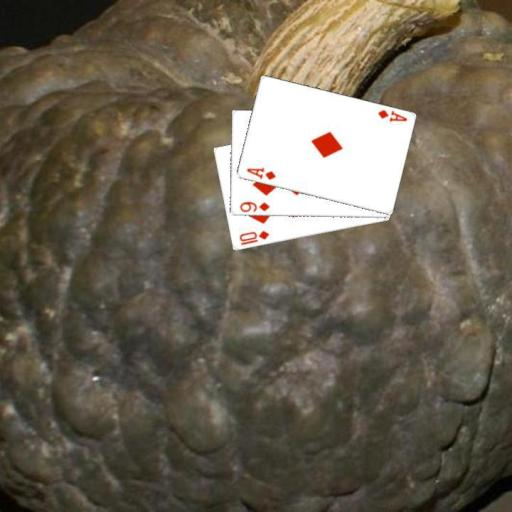10D: (236, 228, 270, 247)
9D: (236, 199, 271, 213)
AD: (243, 165, 277, 182), (375, 107, 408, 124)
